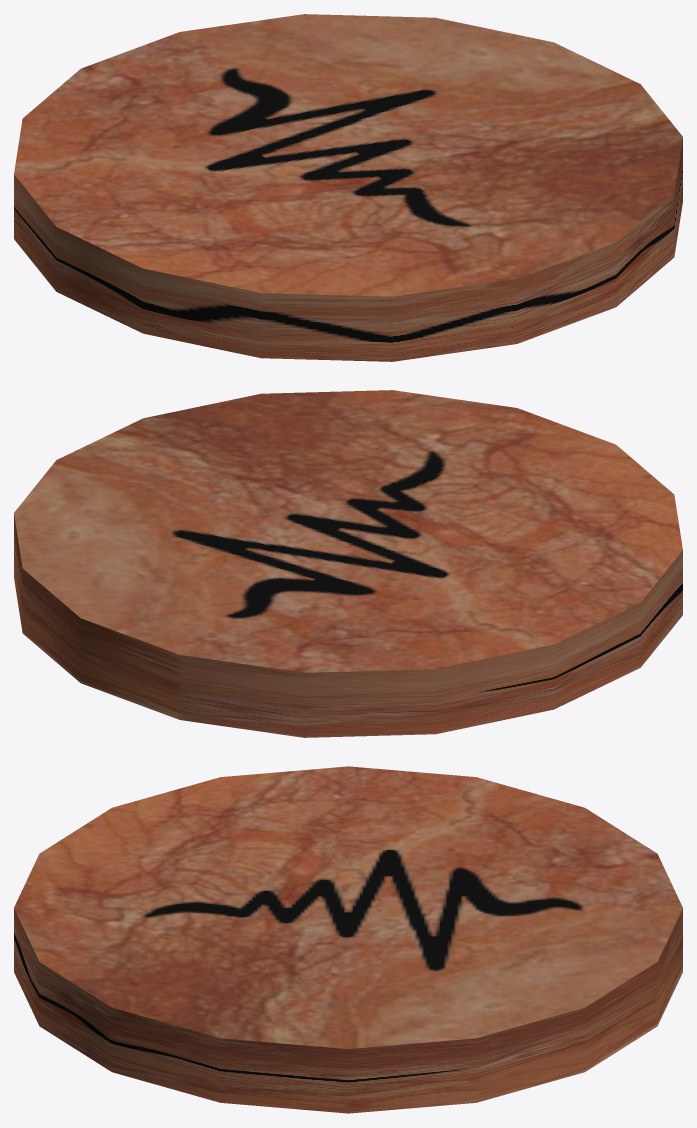
File: medallon_musica.FBX
3 views of the same model, one above another, from view 1: azimuth 30°, elevation 25°; view 2: azimuth 150°, elevation 25°; view 3: azimuth 270°, elevation 25° (orthographic).
Visible parts, largest first — view 1: medallon_musica; view 2: medallon_musica; view 3: medallon_musica.
Part boxes in pixels (x1,y1,x2,y2): medallon_musica: [14, 14, 682, 361]; medallon_musica: [14, 390, 682, 737]; medallon_musica: [14, 766, 682, 1113].
Size of the model in its own units: 2.05 by 0.2178 by 2.05.
